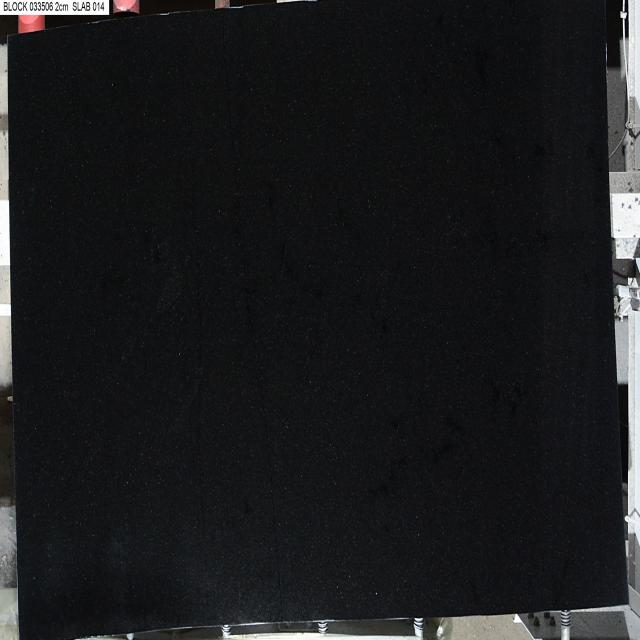chapa: (8, 2, 628, 638)
